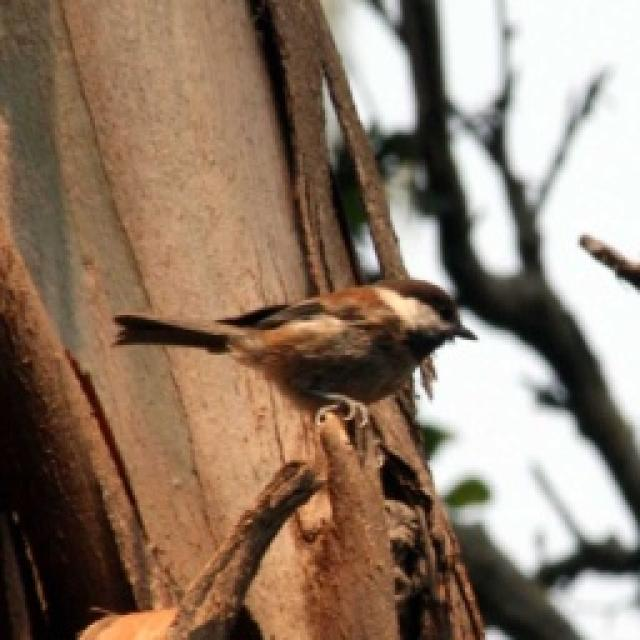sparrow: (108, 272, 480, 432)
